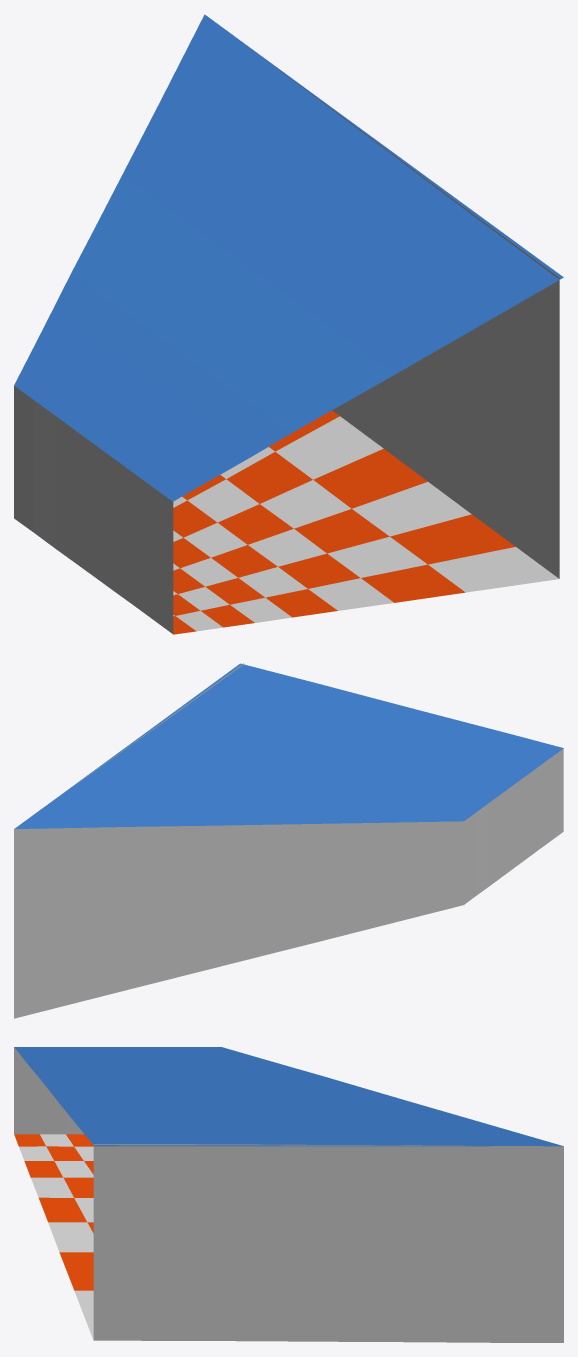
File: Ames_Room.fbx
3 views of the same model, one above another, from view 1: azimuth 30°, elevation 25°; view 2: azimuth 150°, elevation 25°; view 3: azimuth 270°, elevation 25° (orthographic). The views are drawn at different scales.
Visible parts, largest first — view 1: Roof, Floor, Right Wall, Left Wall; view 2: Back Wall, Roof, Left Wall; view 3: Right Wall, Roof, Floor, Left Wall.
Part boxes in pixels (bbox=[...]): Roof: bbox=[14, 14, 563, 501]; Floor: bbox=[173, 410, 558, 634]; Right Wall: bbox=[247, 45, 559, 578]; Left Wall: bbox=[14, 386, 173, 633]; Back Wall: bbox=[14, 821, 463, 1018]; Roof: bbox=[14, 663, 563, 828]; Left Wall: bbox=[464, 748, 563, 904]; Right Wall: bbox=[93, 1144, 563, 1342]; Roof: bbox=[14, 1047, 563, 1146]; Floor: bbox=[14, 1134, 93, 1340]; Left Wall: bbox=[14, 1047, 83, 1134].
Bounding box in the file's own units: 316 × 202 × 509.
